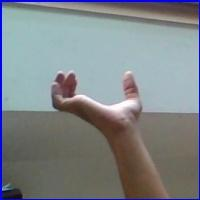B: (45, 63, 150, 132)
